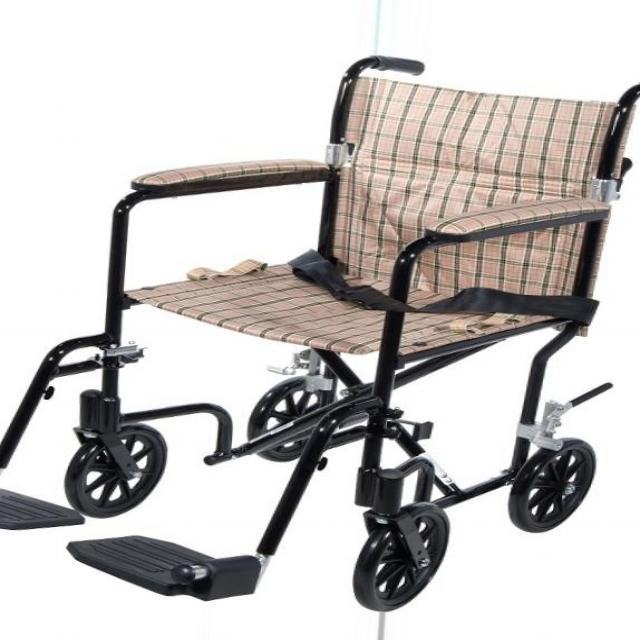wheelchair: (16, 51, 640, 621)
